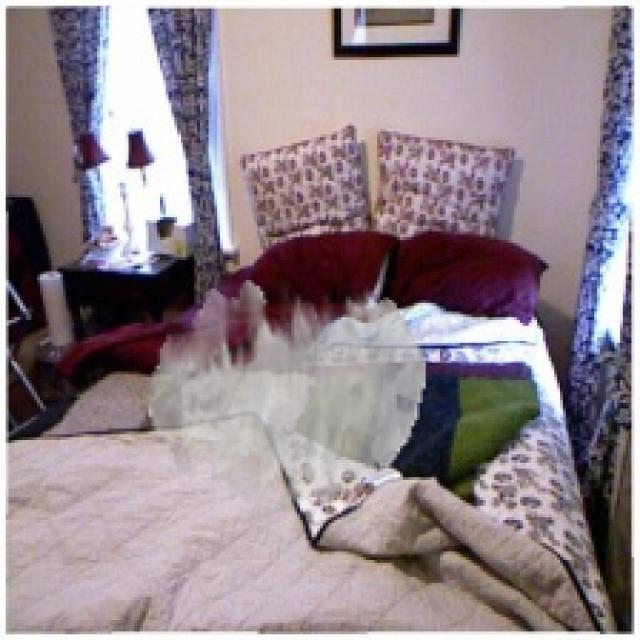smoke: (148, 280, 426, 511)
